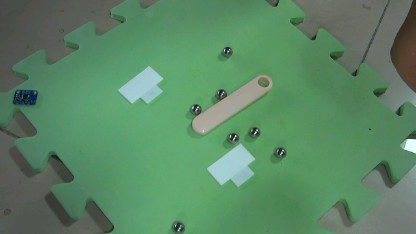ironball: (165, 217, 187, 234), (217, 40, 235, 59), (272, 143, 288, 161), (213, 85, 227, 100), (188, 100, 202, 114), (225, 132, 241, 144), (249, 124, 262, 138)
